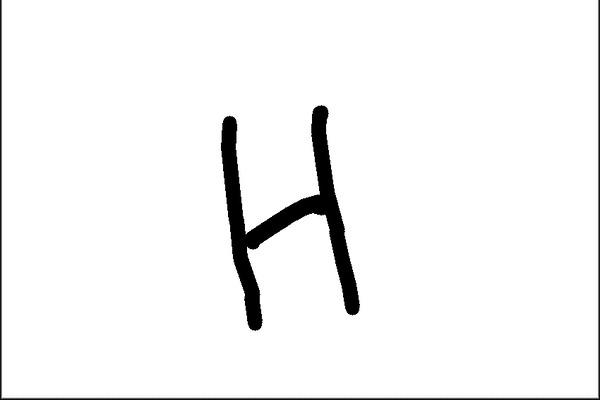H: (216, 100, 372, 333)
